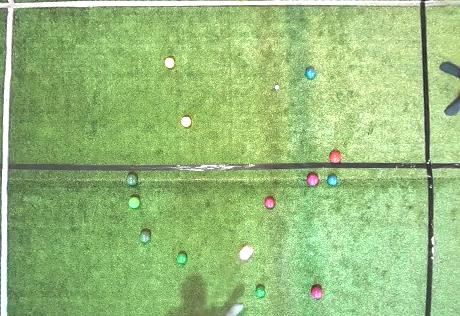blue: (327, 174, 338, 187), (305, 67, 315, 79)
green: (139, 229, 151, 243), (126, 173, 138, 186), (128, 197, 140, 209), (255, 286, 266, 298), (177, 253, 187, 264)
red: (239, 246, 253, 260), (306, 173, 319, 186), (329, 151, 341, 163), (311, 287, 322, 299), (265, 197, 275, 209)
vline: (420, 0, 459, 315), (0, 0, 17, 315)
white: (275, 85, 279, 90)
yellow: (181, 117, 191, 127), (165, 58, 175, 68)
